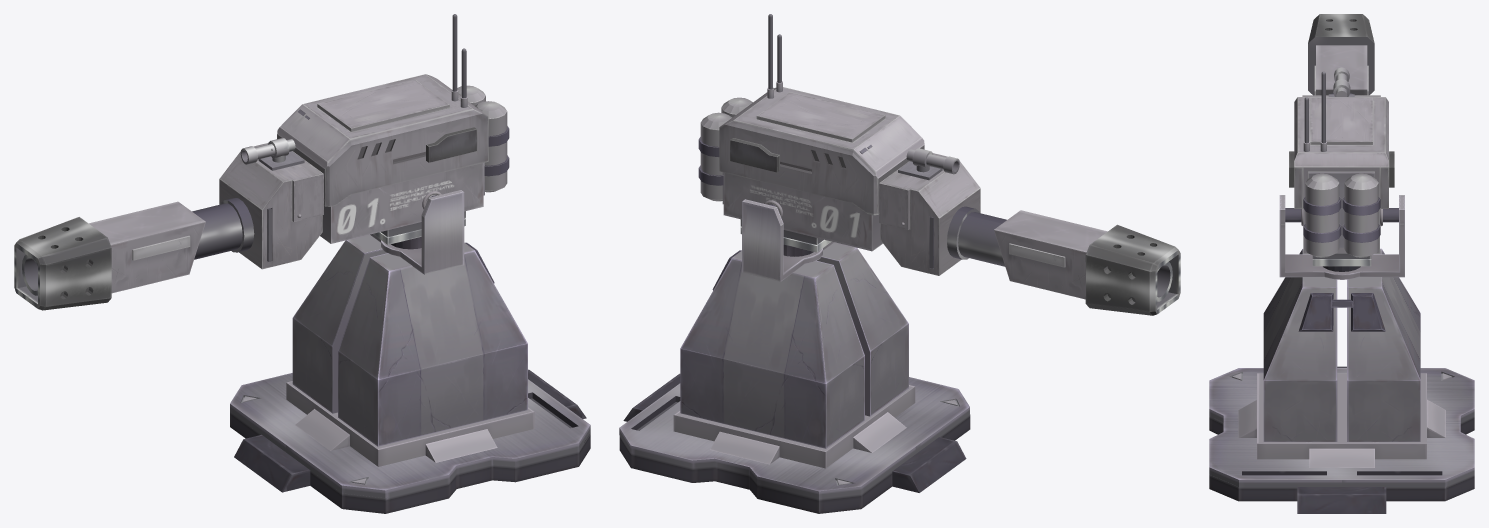
Rendered from flamethrower.fbx.
3 views of the same model, side by side, from view 1: azimuth 30°, elevation 25°; view 2: azimuth 150°, elevation 25°; view 3: azimuth 270°, elevation 25° (orthographic). The views are drawn at different scales.
Parts seen in each view (by area): view 1: basic, semi_dull, black, silver; view 2: basic, semi_dull, black, silver; view 3: basic, semi_dull, silver, black.
Boxes of the visible parts, bbox=[...] form: basic: bbox=[89, 14, 527, 446]; semi_dull: bbox=[14, 85, 590, 498]; black: bbox=[230, 109, 590, 513]; silver: bbox=[133, 74, 534, 466]; basic: bbox=[680, 14, 1107, 448]; semi_dull: bbox=[619, 81, 1180, 498]; black: bbox=[619, 137, 970, 513]; silver: bbox=[673, 87, 1064, 468]; basic: bbox=[1263, 45, 1420, 441]; semi_dull: bbox=[1209, 14, 1474, 486]; silver: bbox=[1238, 97, 1445, 467]; black: bbox=[1209, 196, 1474, 513].
Size of the model in its own units: 1665 by 1253 by 775.
